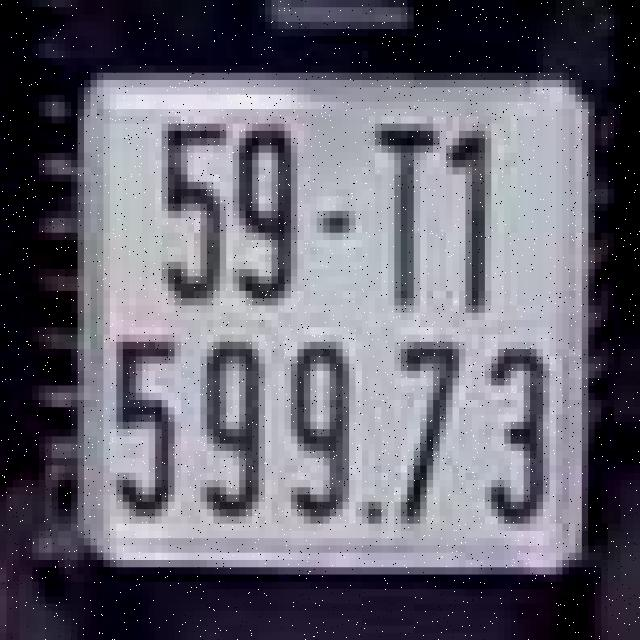1: (443, 120, 520, 324)
3: (482, 334, 552, 531)
5: (145, 109, 236, 313), (106, 327, 190, 538)
7: (394, 334, 466, 531)
9: (281, 331, 365, 534), (194, 320, 271, 538), (226, 106, 304, 309)
T: (356, 109, 440, 320)
